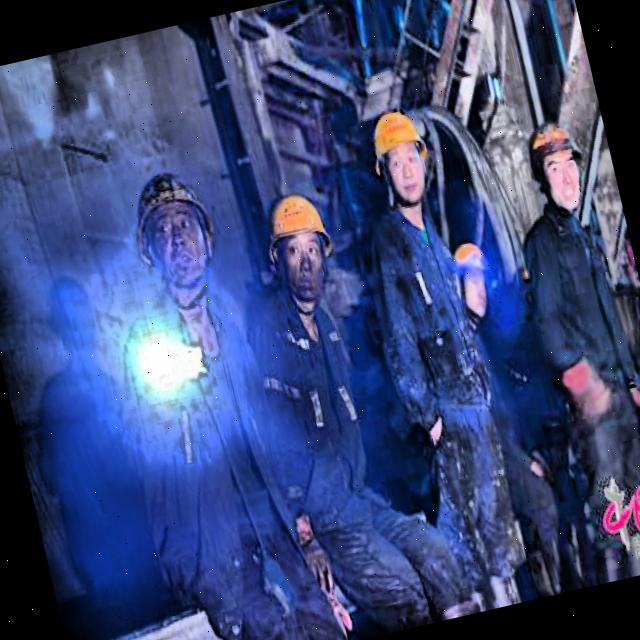helmet: (112, 154, 232, 324), (255, 177, 348, 315), (360, 96, 442, 212), (522, 111, 590, 212), (446, 236, 499, 320)
